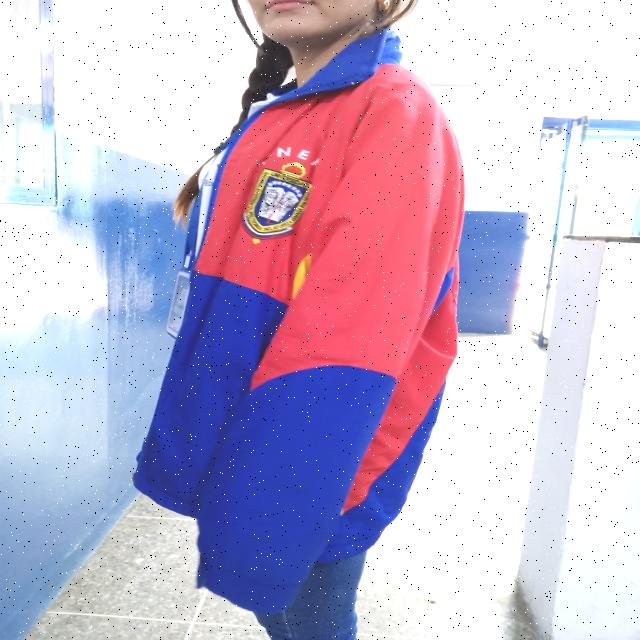carnet: (168, 271, 196, 336)
chaqueta_unefa: (132, 25, 466, 616)
